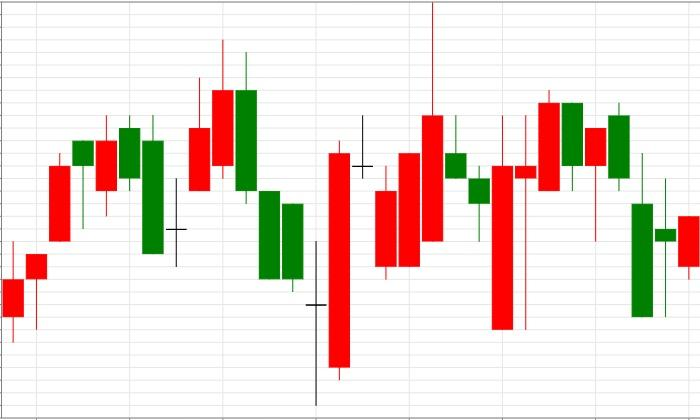hanging_man_fall: (3, 140, 94, 343)
